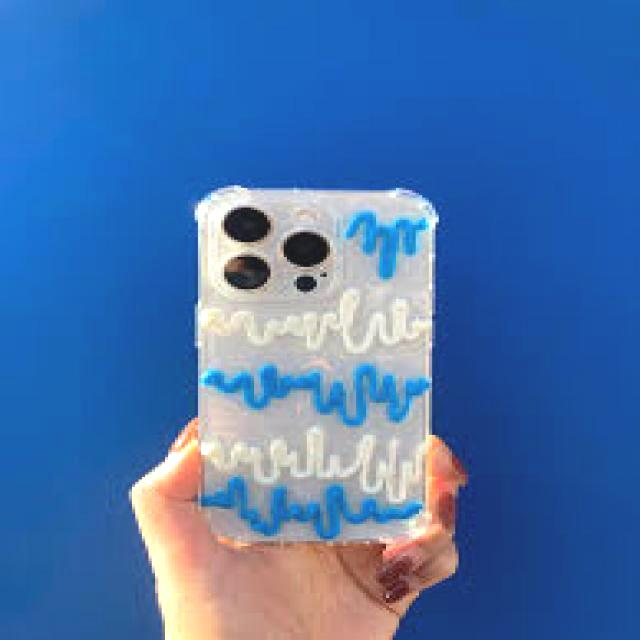phone: (192, 186, 446, 553)
